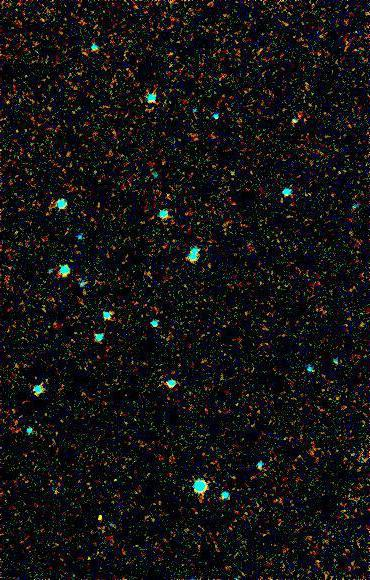star: (87, 503, 117, 533)
